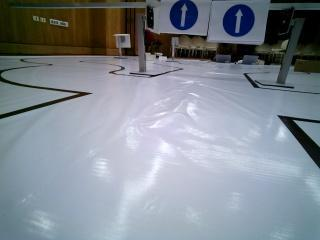straight: (211, 0, 265, 42), (156, 0, 211, 35)
